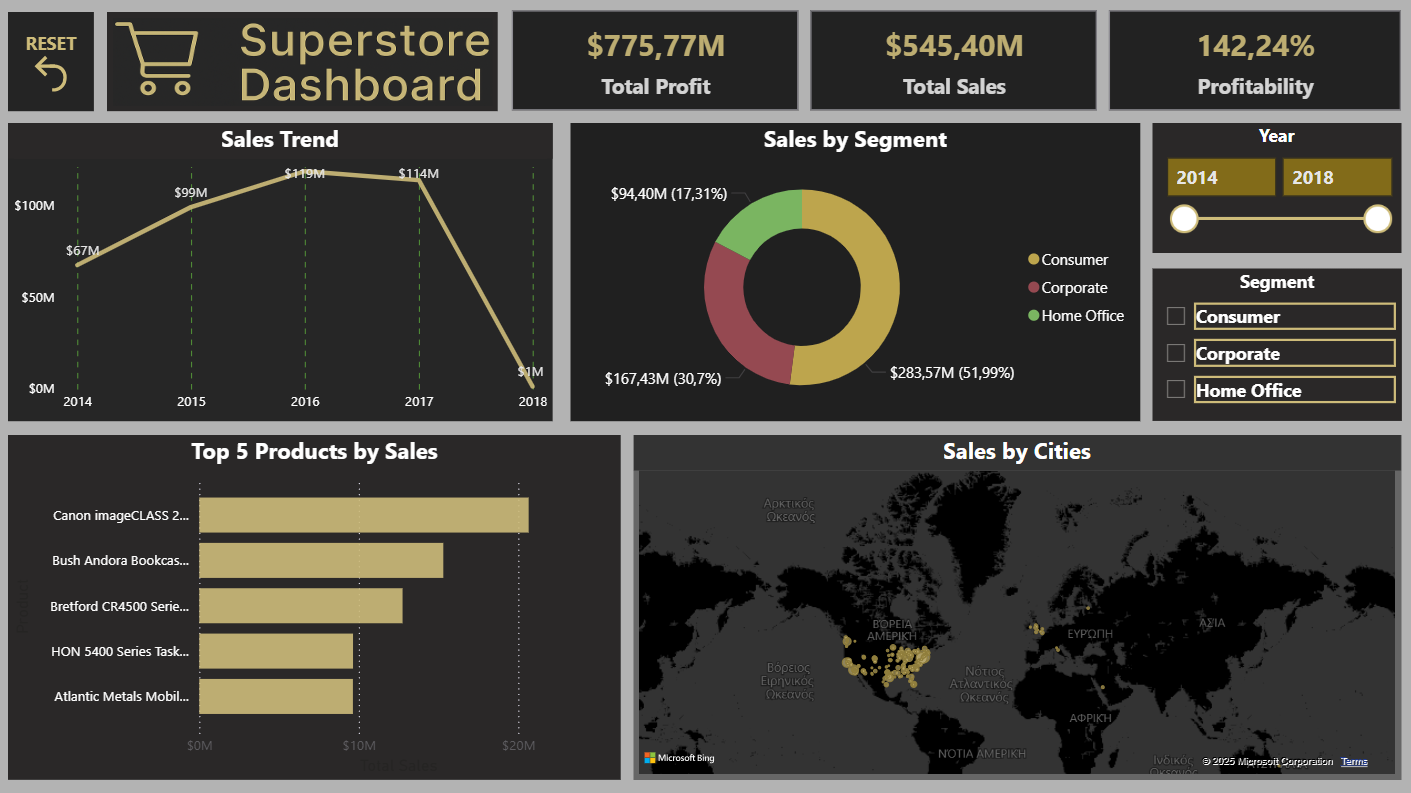

The dashboard page shown, as its layout file describes it:
{"tool":"powerbi","page":{"name":"Main Dashboard","canvas":[1280,720],"ordinal":0},"visuals":[{"type":"lineChart","title":"Sales Trend","fields":{"Category":["Dates.Ship_Date.Variation.Date Hierarchy.Year","Dates.Ship_Date.Variation.Date Hierarchy.Quarter","Dates.Ship_Date.Variation.Date Hierarchy.Month","Dates.Ship_Date.Variation.Date Hierarchy.Day"],"Y":["Sales.Total Sales"]},"box":[13.3,110.8,490.3,268.8],"z":0},{"type":"donutChart","title":"Sales by Segment","fields":{"Y":["Sales.Total Sales"],"Category":["Customers.Segment"]},"box":[520.9,110.4,513.4,268.7],"z":1000},{"type":"map","title":"Sales by Cities","fields":{"Series":["Customers.Country"],"Category":["Customers.City"],"Size":["Sales.Total Sales"]},"box":[577.6,392.5,691,310.4],"z":2000},{"type":"slicer","title":"Year","fields":{"Values":["Dates.Year"]},"box":[1044.8,110.4,223.9,116.4],"z":3000},{"type":"slicer","title":"Segment","fields":{"Values":["Customers.Segment"]},"box":[1044.2,242.2,224.5,137.4],"z":4000},{"type":"actionButton","box":[13.4,10.4,77.6,89.6],"z":5000},{"type":"cardVisual","title":"Total Sales","fields":{"Data":["Sales.Total Profit"]},"box":[462.7,4.5,268.7,100],"z":6000},{"type":"clusteredBarChart","title":"Top 5 Products by Sales","fields":{"Category":["Products.Product_Name"],"Y":["Sales.Total Sales"]},"box":[13.4,392.5,552.2,310.4],"z":7000},{"type":"cardVisual","title":"Total Sales","fields":{"Data":["Sales.Total Sales"]},"box":[731.3,4.5,268.7,100],"z":8000},{"type":"cardVisual","title":"Total Sales","fields":{"Data":["Sales.Profitability %"]},"box":[1000,4.5,273,100],"z":9000},{"type":"image","box":[103,10.4,352,89.6],"z":10000}]}

Visuals, with their boxes in screenshot pixels (x1, y1, x2, y2), scaled from the page's 1280x720 canvas onto the 1411x793 screenshot:
"Sales Trend" lineChart: left=15, top=122, right=555, bottom=418
"Sales by Segment" donutChart: left=574, top=122, right=1140, bottom=418
"Sales by Cities" map: left=637, top=432, right=1398, bottom=774
"Year" slicer: left=1152, top=122, right=1399, bottom=250
"Segment" slicer: left=1151, top=267, right=1399, bottom=418
actionButton: left=15, top=11, right=100, bottom=110
"Total Sales" cardVisual: left=510, top=5, right=806, bottom=115
"Top 5 Products by Sales" clusteredBarChart: left=15, top=432, right=623, bottom=774
"Total Sales" cardVisual: left=806, top=5, right=1102, bottom=115
"Total Sales" cardVisual: left=1102, top=5, right=1403, bottom=115
image: left=114, top=11, right=502, bottom=110
